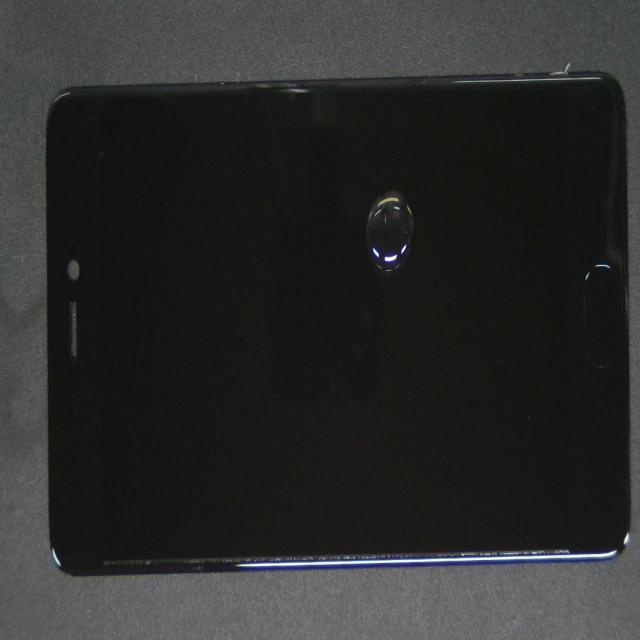oil: (201, 83, 562, 324)
